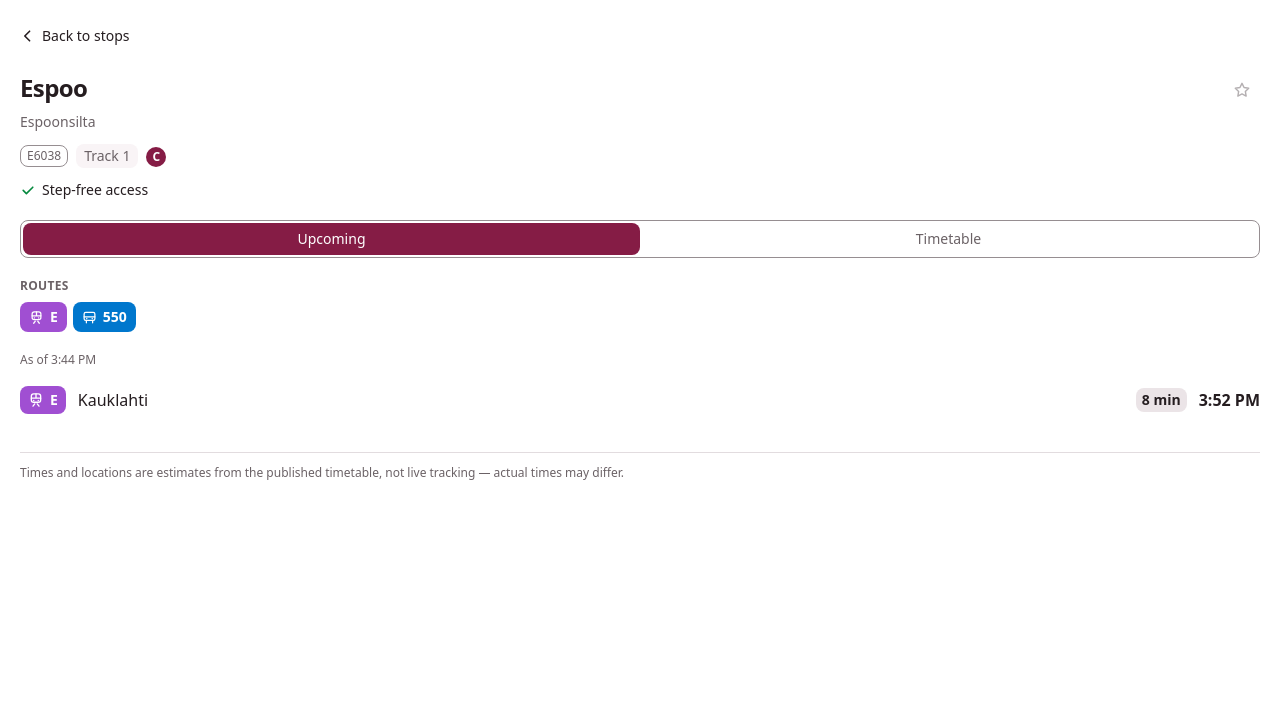
Scenario: StopInspector › offers the whole day, and asks for it only when asked
The width and height of the screenshot is (1280, 720).
Expected: the heading "Espoo" is shown, [20, 71, 87, 104]
Click the radio button labelled "Timetable": (948, 239) [640, 223, 1257, 255]
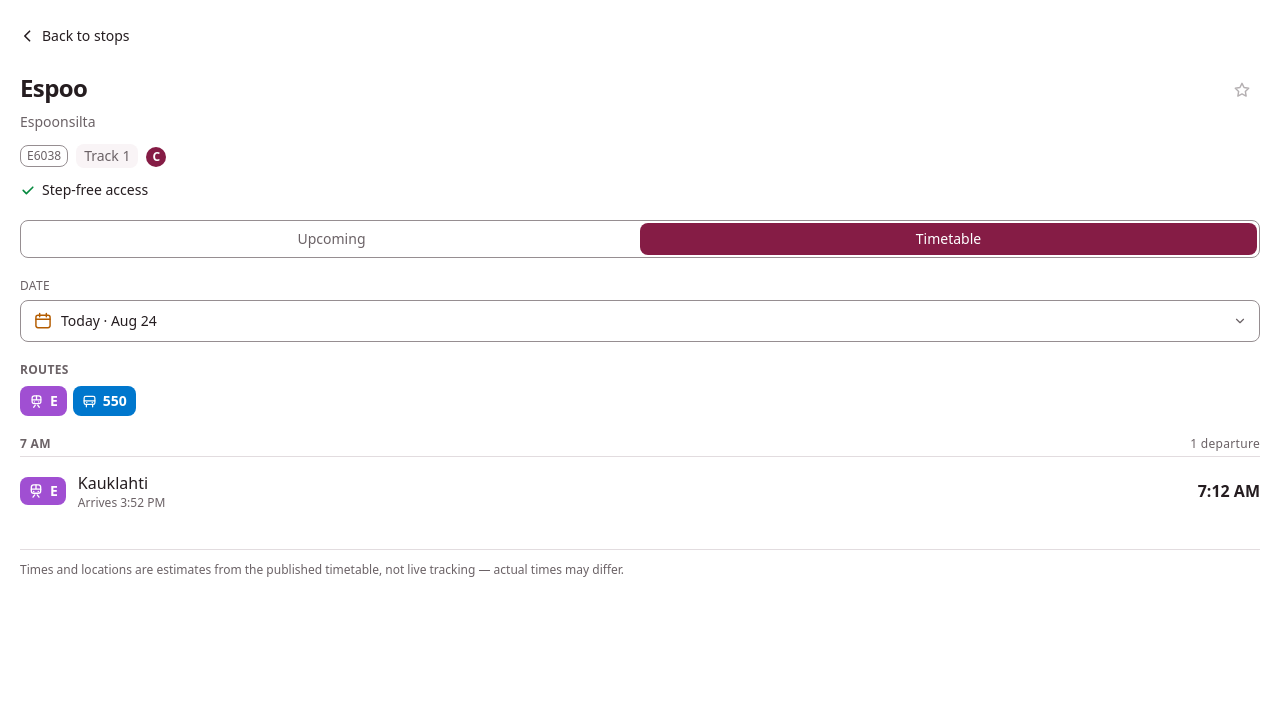
Result: the text "7 AM" is shown at [20, 436, 51, 452]
